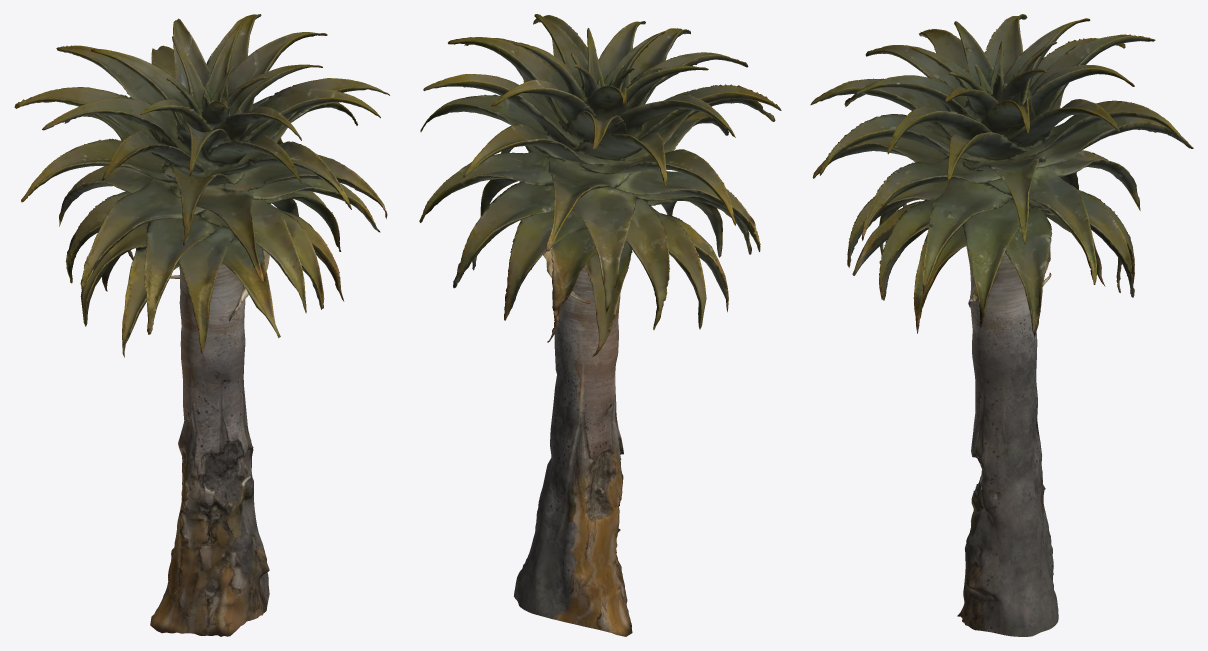
File: quiver-spare.glb
3 renders of one model, left to right at view 1: azimuth 30°, elevation 25°; view 2: azimuth 150°, elevation 25°; view 3: azimuth 270°, elevation 25°, orthographic.
Visible parts, largest first — view 1: quiver_tree_02; view 2: quiver_tree_02; view 3: quiver_tree_02.
Boxes of the visible parts, x1,y1,x2,y2 form: quiver_tree_02: (14,14,389,636); quiver_tree_02: (419,14,781,636); quiver_tree_02: (810,14,1193,636).
Size of the model in its own units: 0.8717 by 1.47 by 0.8808.
Materials: 1 (1 with a texture image).
